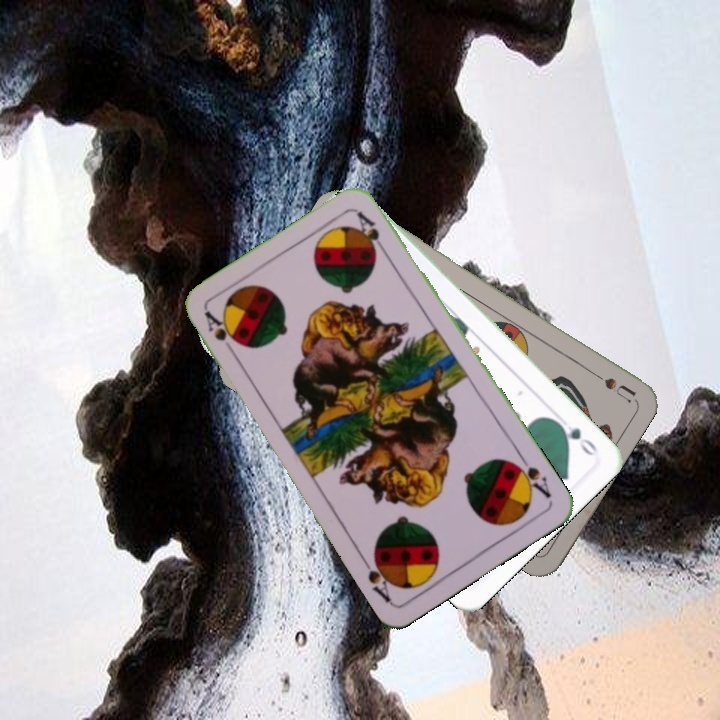GO: (551, 416, 600, 459)
SA: (508, 450, 554, 501), (200, 307, 242, 360)
SU: (582, 364, 638, 406)
